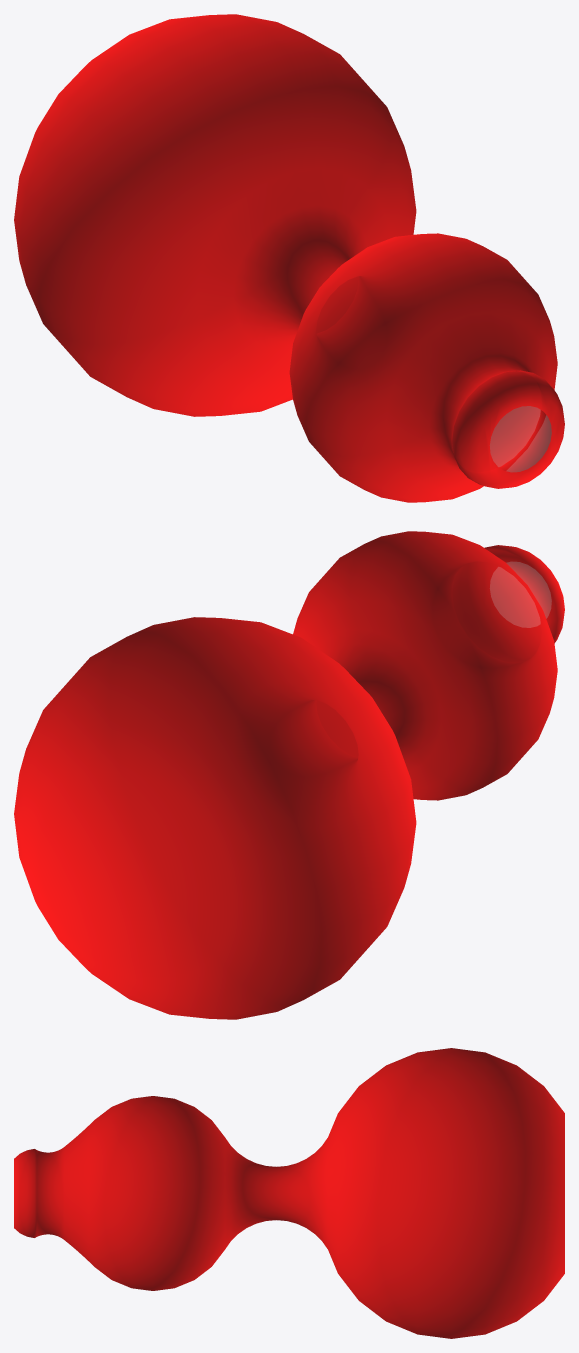
Rendered from model_align.obj.
3 views of the same model, one above another, from view 1: azimuth 30°, elevation 25°; view 2: azimuth 150°, elevation 25°; view 3: azimuth 270°, elevation 25° (orthographic). The views are drawn at different scales.
Visible parts, largest first — view 1: mesh1_mesh1-geometry; view 2: mesh1_mesh1-geometry; view 3: mesh1_mesh1-geometry.
Part boxes in pixels (bbox=[...]): mesh1_mesh1-geometry: bbox=[14, 14, 564, 502]; mesh1_mesh1-geometry: bbox=[14, 531, 564, 1019]; mesh1_mesh1-geometry: bbox=[14, 1048, 564, 1338].
Size of the model in its own units: 0.0511 by 0.0511 by 0.0965.
